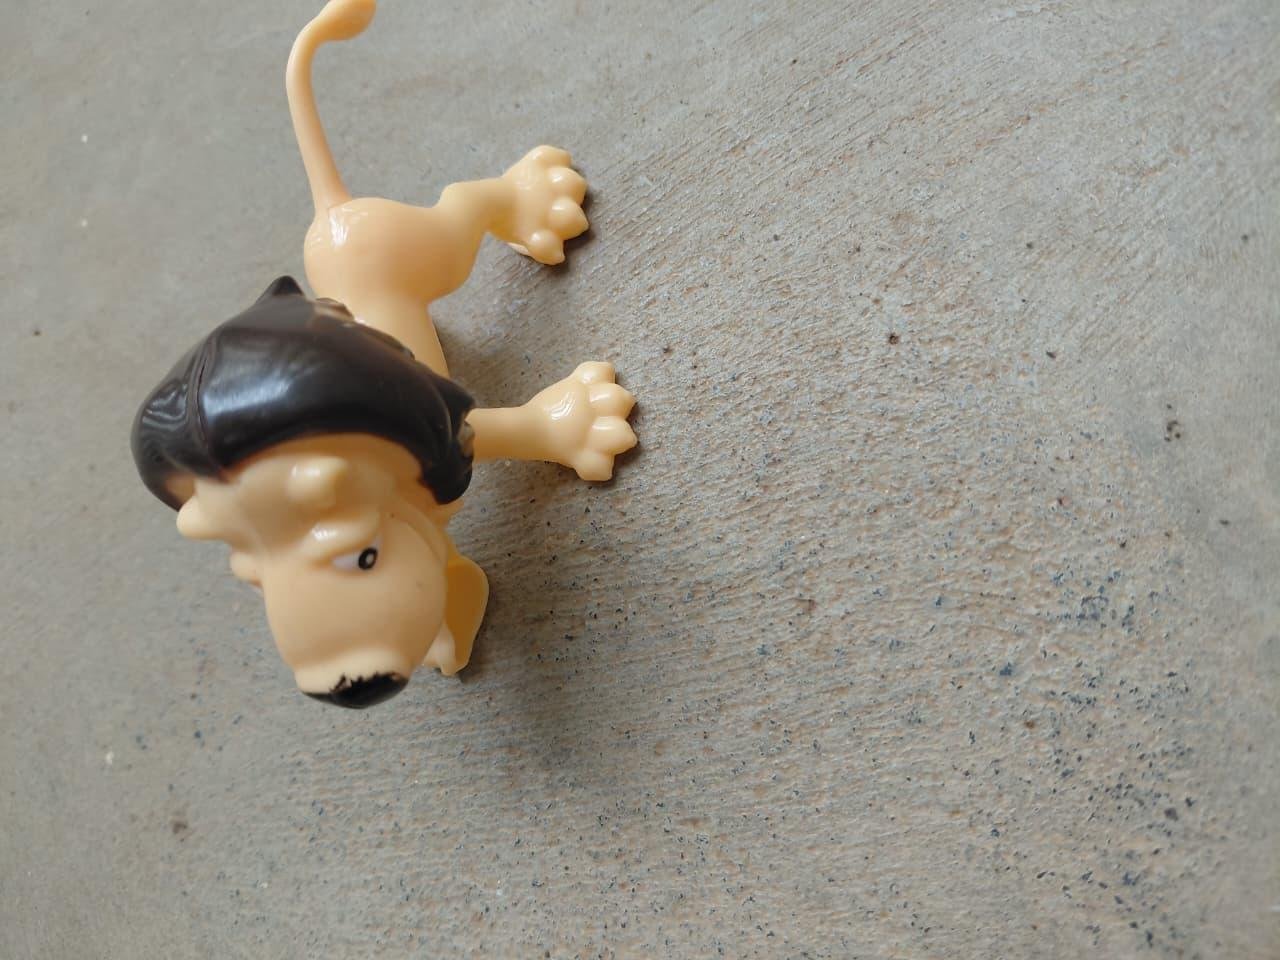lion: (114, 6, 648, 710)
